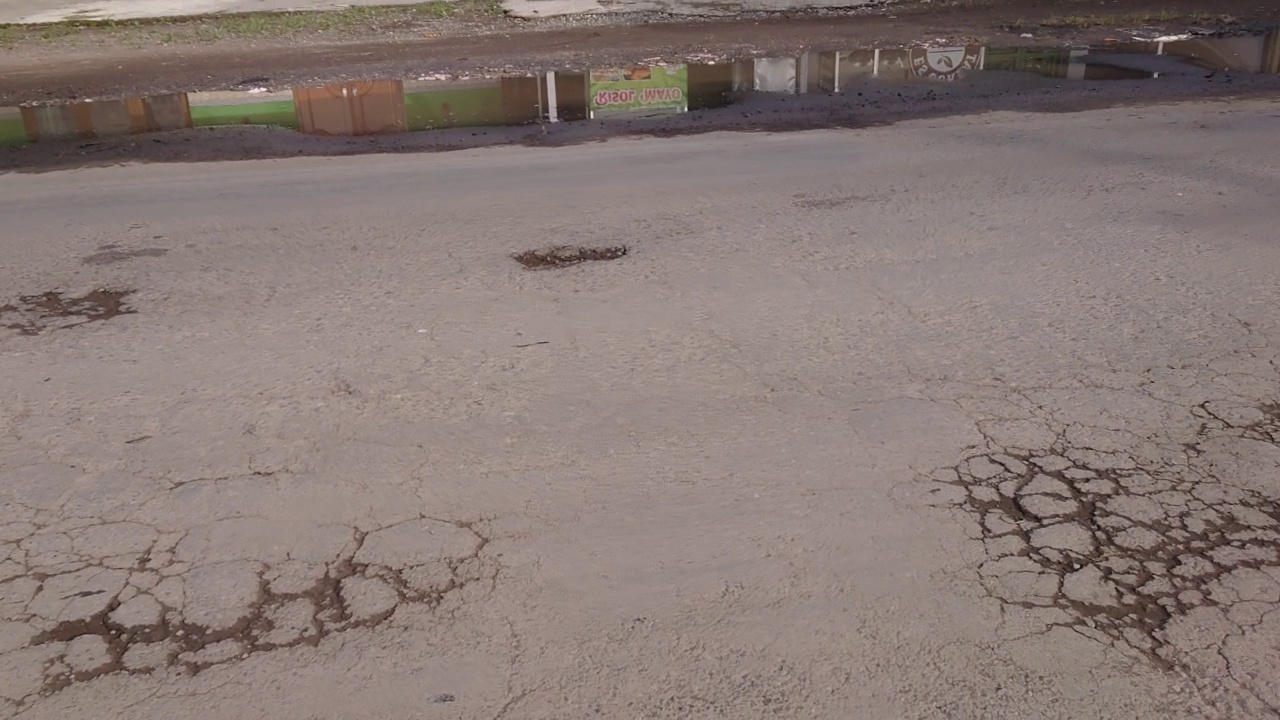Retak: (941, 420, 1280, 700), (1, 532, 488, 704), (1, 285, 176, 359), (512, 235, 636, 277)
